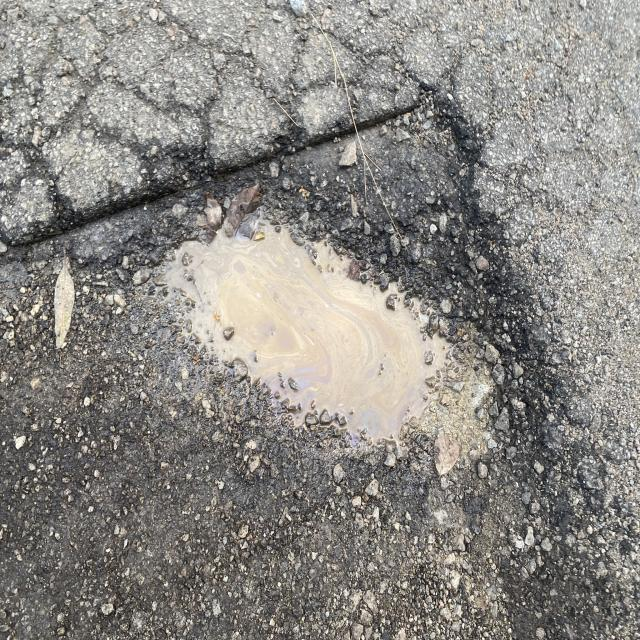Pothole: (51, 77, 575, 471)
